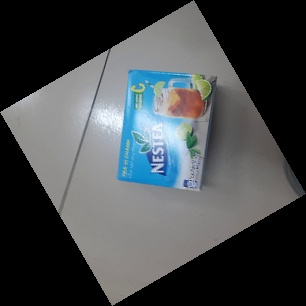Nestea: (118, 69, 219, 195)
